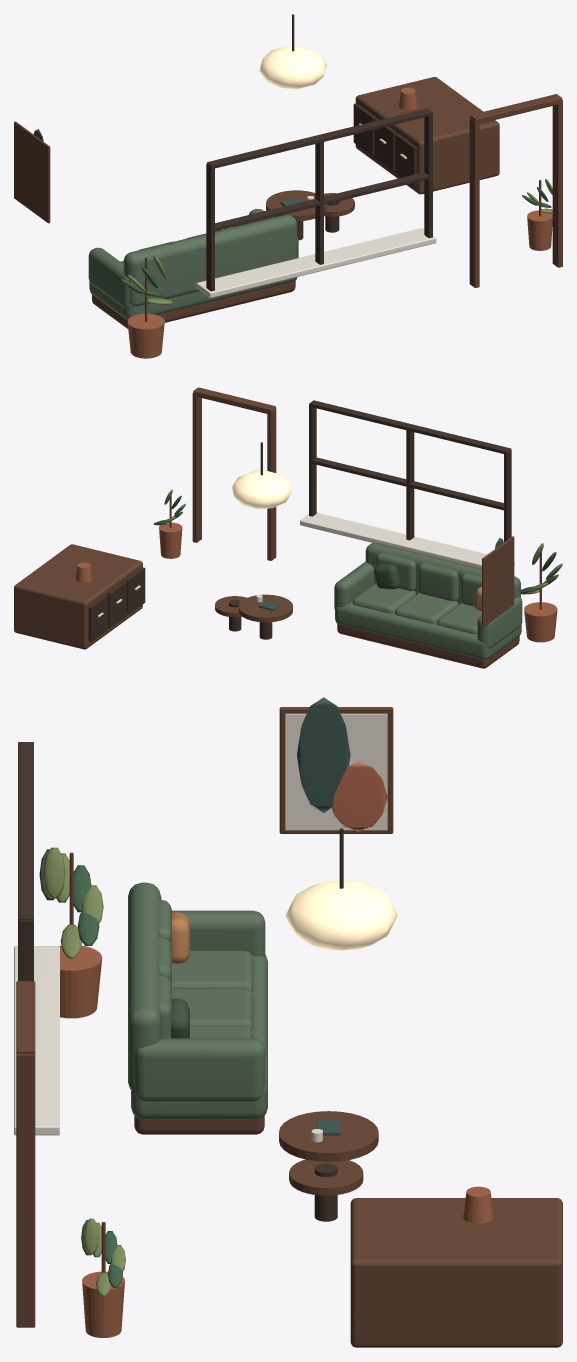
Rendered from proxy_details.glb.
3 views of the same model, one above another, from view 1: azimuth 30°, elevation 25°; view 2: azimuth 150°, elevation 25°; view 3: azimuth 270°, elevation 25° (orthographic). The views are drawn at different scales.
Parts seen in each view (by area): view 1: Oak sideboard, Sofa back, Stone window ledge, Framed abstract print, Paper pendant, Bronze window crossbar.002, Bronze window crossbar.001, Oak door casing, Oak door casing.001, Sofa plinth, Sofa frame, Sofa arm (+11 smaller); view 2: Oak sideboard, Sofa frame, Stone window ledge, Framed abstract print, Paper pendant, Sofa plinth, Sofa back, Bronze window crossbar.002, Bronze window crossbar.001, Oak door casing.001, Linen back pillow.001, Sofa arm (+19 smaller); view 3: Oak sideboard, Sofa arm.001, Paper pendant, Oak door casing.001, Sofa back, Framed paper, Stone window ledge, Abstract print shape, Sofa frame, Round coffee table, Sofa arm, Seat cushion (+15 smaller).
Part boxes in pixels (x1,y1,x2,y2): Oak sideboard: [355, 77, 499, 194]; Sofa back: [123, 214, 297, 306]; Stone window ledge: [196, 228, 436, 297]; Framed abstract print: [14, 121, 50, 223]; Paper pendant: [259, 45, 326, 89]; Bronze window crossbar.002: [207, 108, 432, 168]; Bronze window crossbar.001: [212, 172, 431, 231]; Oak door casing: [469, 117, 479, 287]; Oak door casing.001: [552, 100, 562, 267]; Sofa plinth: [92, 281, 295, 328]; Sofa frame: [89, 277, 297, 320]; Sofa arm: [88, 247, 129, 308]; Oak sideboard: [14, 544, 142, 649]; Sofa frame: [335, 601, 521, 659]; Stone window ledge: [300, 513, 514, 568]; Framed abstract print: [482, 536, 514, 627]; Paper pendant: [232, 470, 291, 509]; Sofa plinth: [337, 624, 519, 668]; Sofa back: [365, 542, 520, 604]; Bronze window crossbar.002: [309, 400, 511, 453]; Bronze window crossbar.001: [310, 457, 504, 510]; Oak door casing.001: [192, 393, 201, 542]; Linen back pillow.001: [418, 563, 458, 601]; Sofa arm: [477, 597, 522, 648]; Oak sideboard: [350, 1198, 562, 1347]; Sofa arm.001: [134, 1038, 265, 1101]; Paper pendant: [285, 881, 397, 950]; Oak door casing.001: [16, 1054, 35, 1327]; Sofa back: [128, 882, 161, 1090]; Framed paper: [285, 713, 387, 830]; Stone window ledge: [14, 946, 59, 1135]; Abstract print shape: [297, 697, 350, 812]; Sofa frame: [131, 955, 267, 1119]; Round coffee table: [279, 1111, 378, 1161]; Sofa arm: [172, 910, 265, 956]; Seat cushion: [172, 950, 253, 992].
Bounding box in the file's own units: 7.01 × 3.12 × 4.29.
